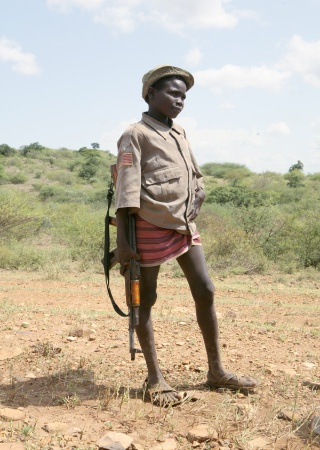rifle: (97, 158, 149, 359)
